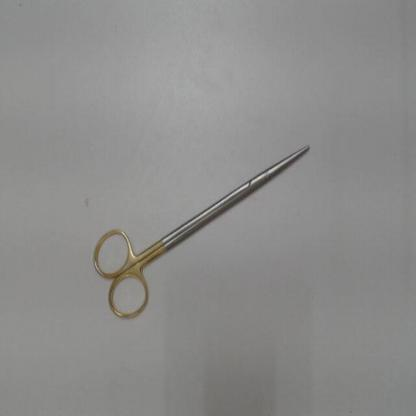7 Metzenbaum Scissors: (88, 141, 313, 327)
